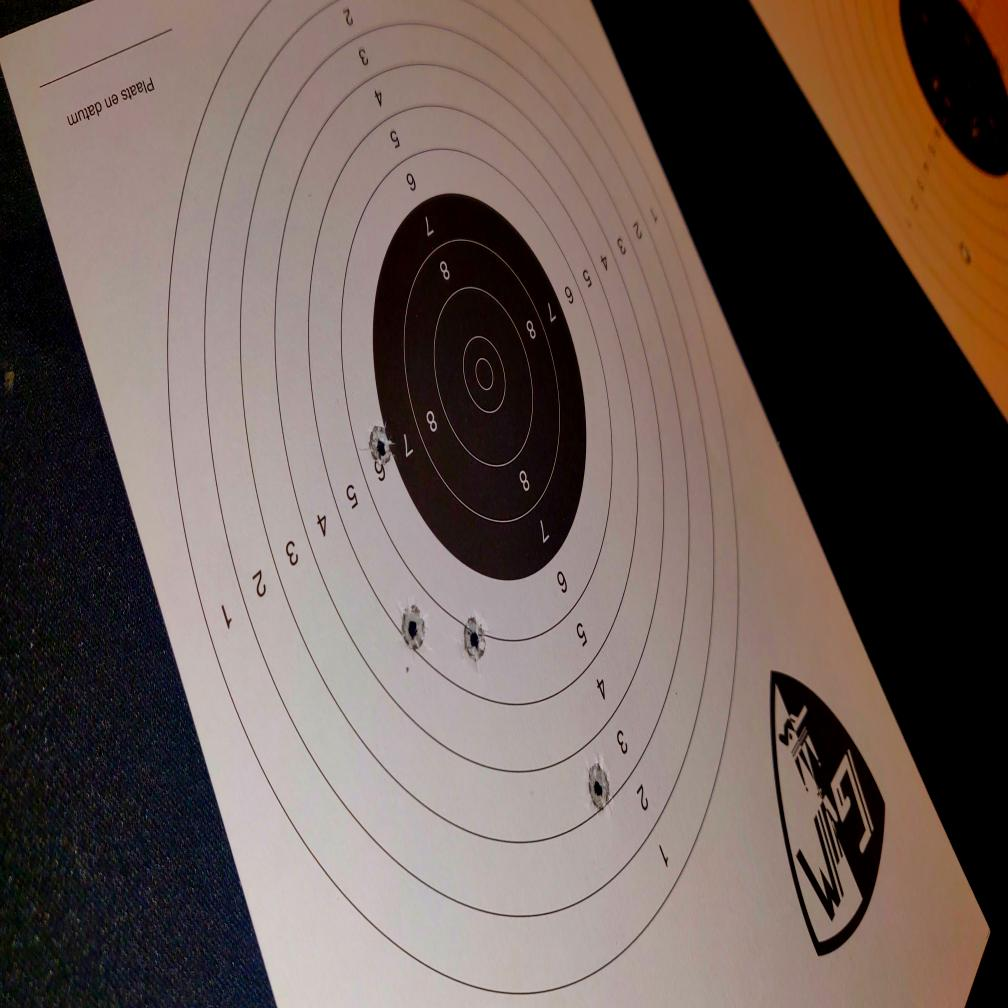3: (587, 758, 613, 818)
5: (400, 603, 428, 653)
6: (462, 615, 487, 666)
7: (362, 421, 397, 467)
Target: (164, 0, 740, 1008)
black_contour: (372, 190, 587, 582)
